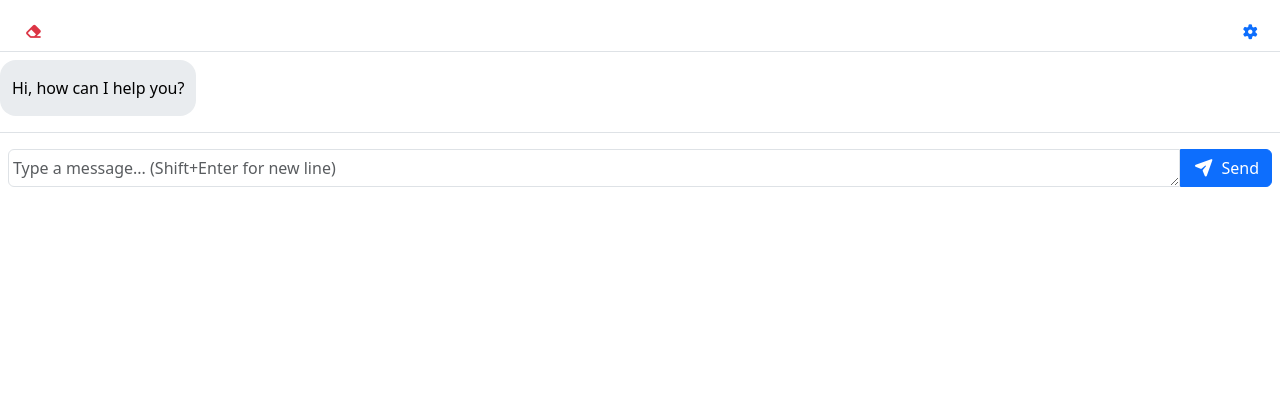
Test case: Chat request errors › keeps partial text and adds the error after it
The width and height of the screenshot is (1280, 403).
Expected: the button "Send" is shown, 1180,149 -> 1272,187
Type "hello" into the text box with placeholder "Type a message... (Shift+Enter for new line)" at [594, 168], box 8,149 -> 1180,187
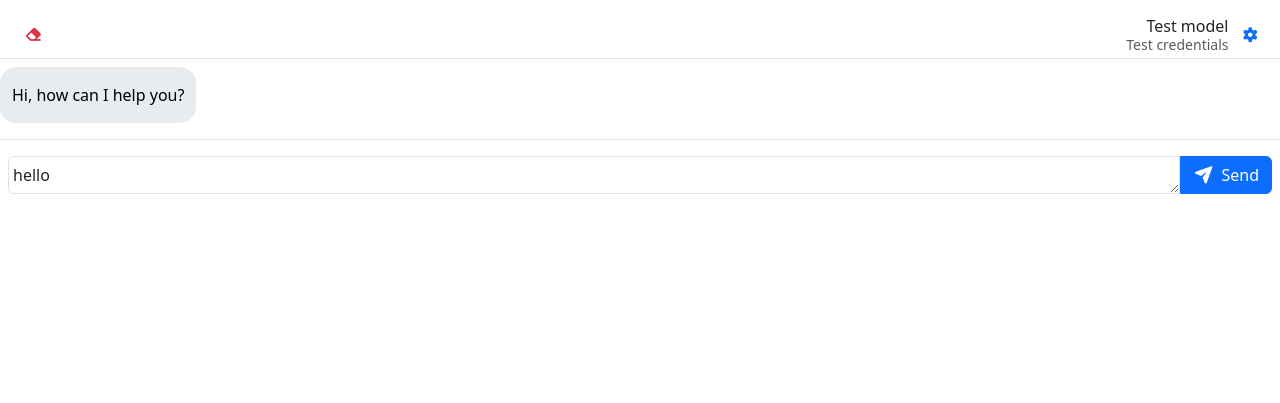
Click the button "Send" at [1226, 174], box 1180,156 -> 1272,194
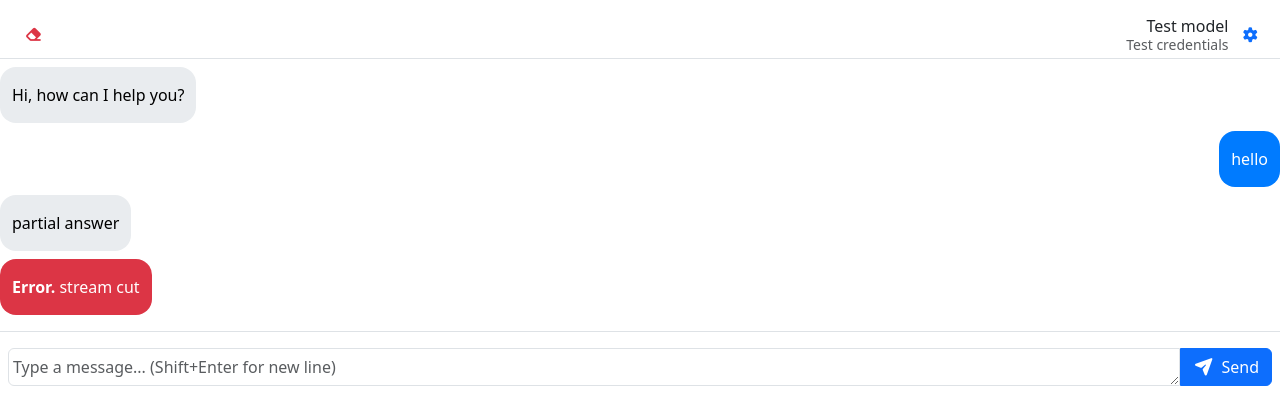
Now the text "stream cut" is shown, box 55,276 -> 140,298
Now the text "partial answer" is shown, box 12,210 -> 119,234
